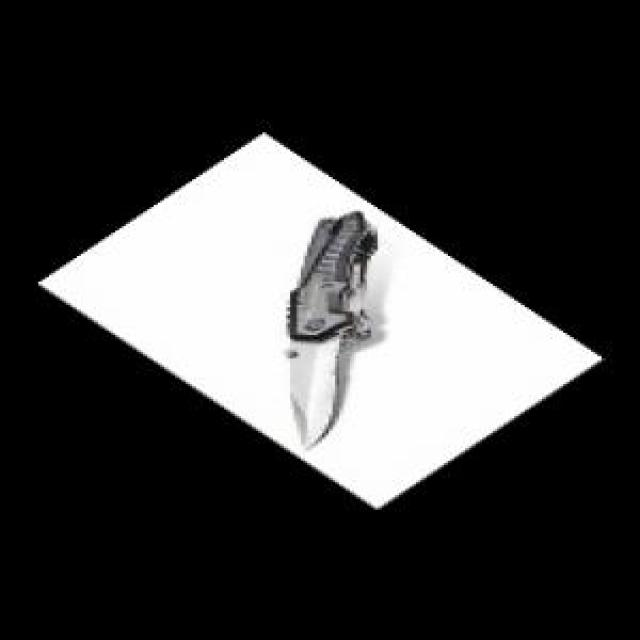knife: (279, 209, 381, 458)
